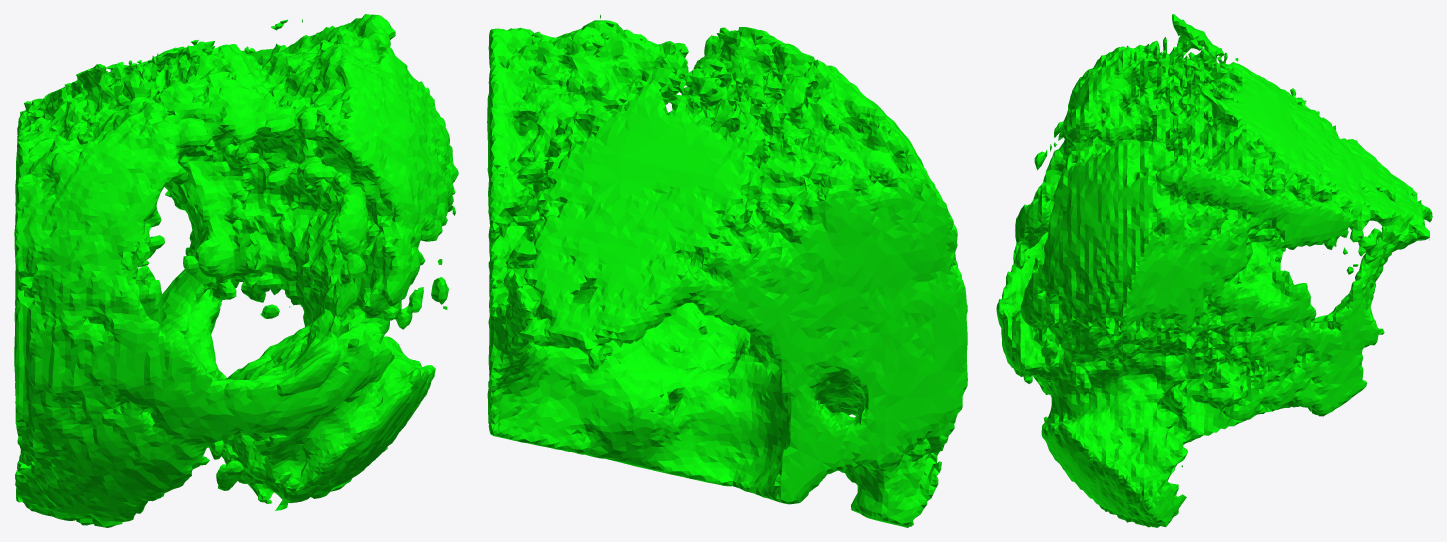
Rendered from B939XXXX-1_base_7.obj.
3 views of the same model, side by side, from view 1: azimuth 30°, elevation 25°; view 2: azimuth 150°, elevation 25°; view 3: azimuth 270°, elevation 25° (orthographic). The views are drawn at different scales.
Parts seen in each view (by area): view 1: 7_base; view 2: 7_base; view 3: 7_base.
Boxes of the visible parts, bbox=[...] form: 7_base: bbox=[14, 14, 458, 527]; 7_base: bbox=[487, 14, 967, 527]; 7_base: bbox=[996, 14, 1432, 527].
Bounding box in the file's own units: 219 × 213 × 205.
